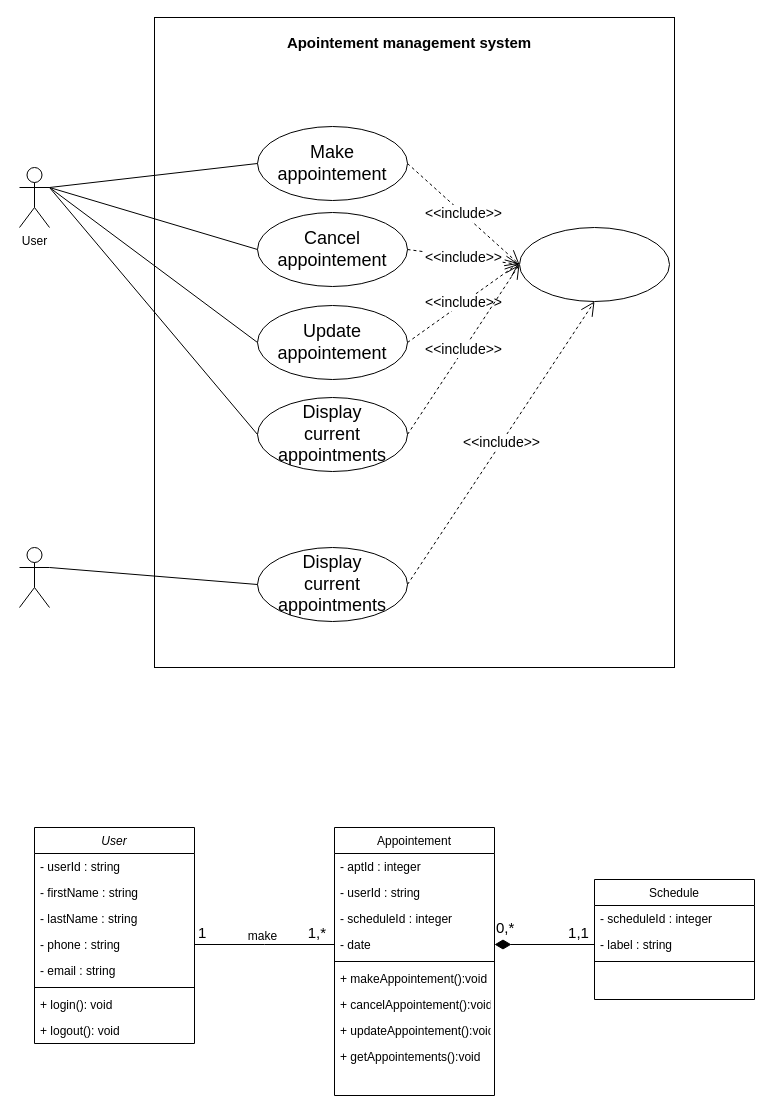
Some shapes in this 772 by 1113 pixel diagram are drawn without their labels. Each missing label, with the centre of its shape:
"Authenticate" goes at (x=594, y=264).
"Doctor" goes at (x=34, y=577).
